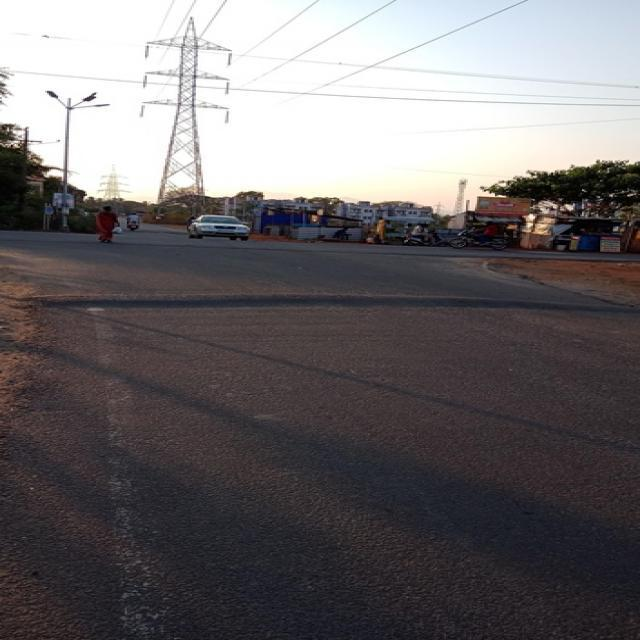NonMarked Bump: (52, 282, 608, 320)
